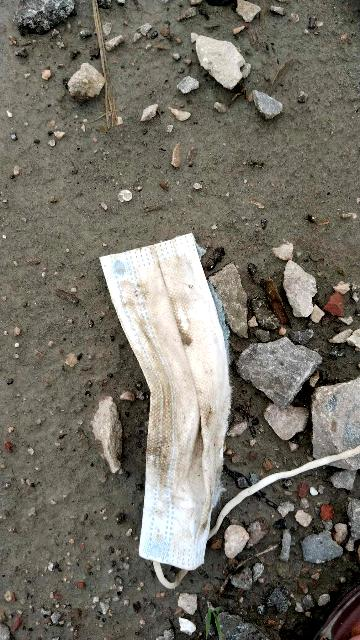mask: (70, 203, 264, 590)
